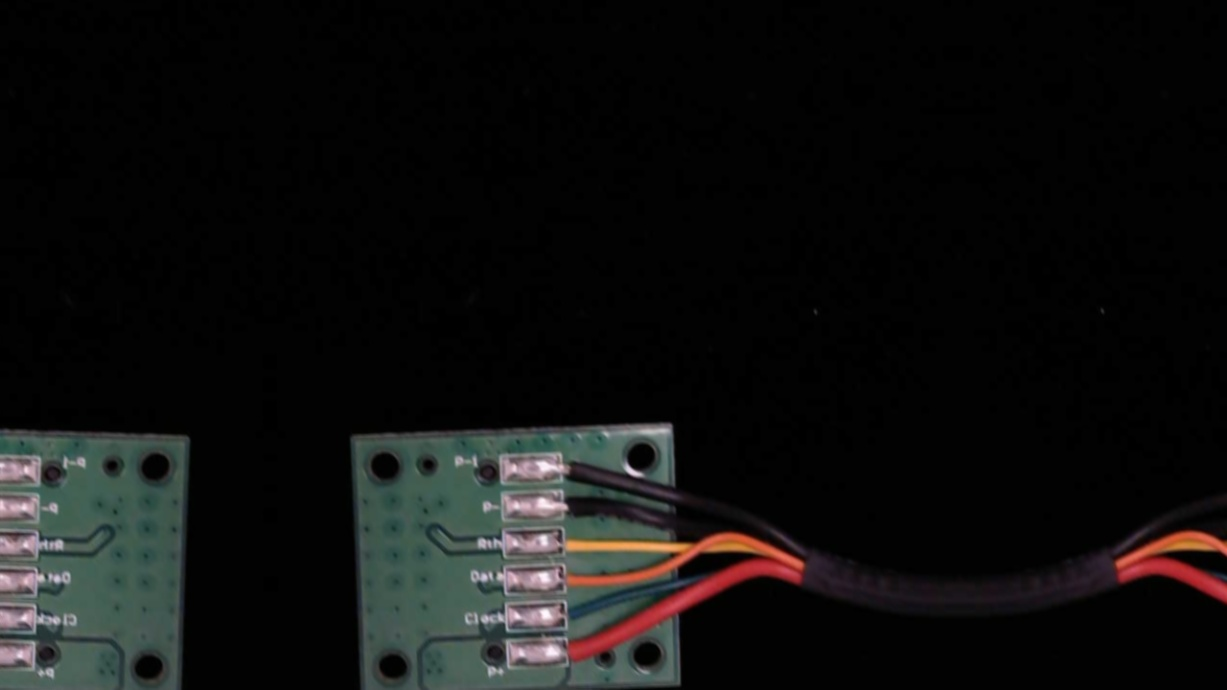Black: (546, 490, 616, 523)
Black1: (547, 450, 611, 482)
Green: (549, 598, 616, 631)
Orange: (548, 564, 617, 595)
Red: (549, 633, 616, 666)
Yellow: (548, 526, 619, 559)
